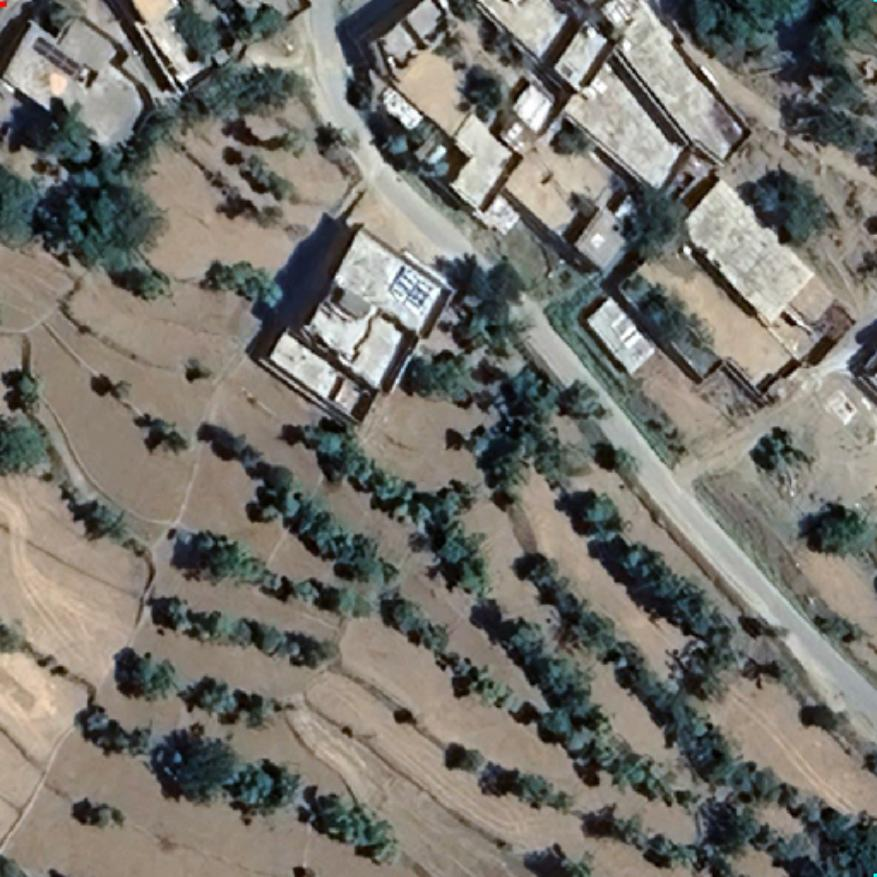Solarpanel: (26, 31, 92, 84), (382, 262, 436, 314)
